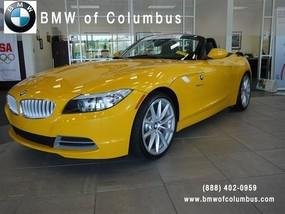Car: (0, 21, 268, 175)
